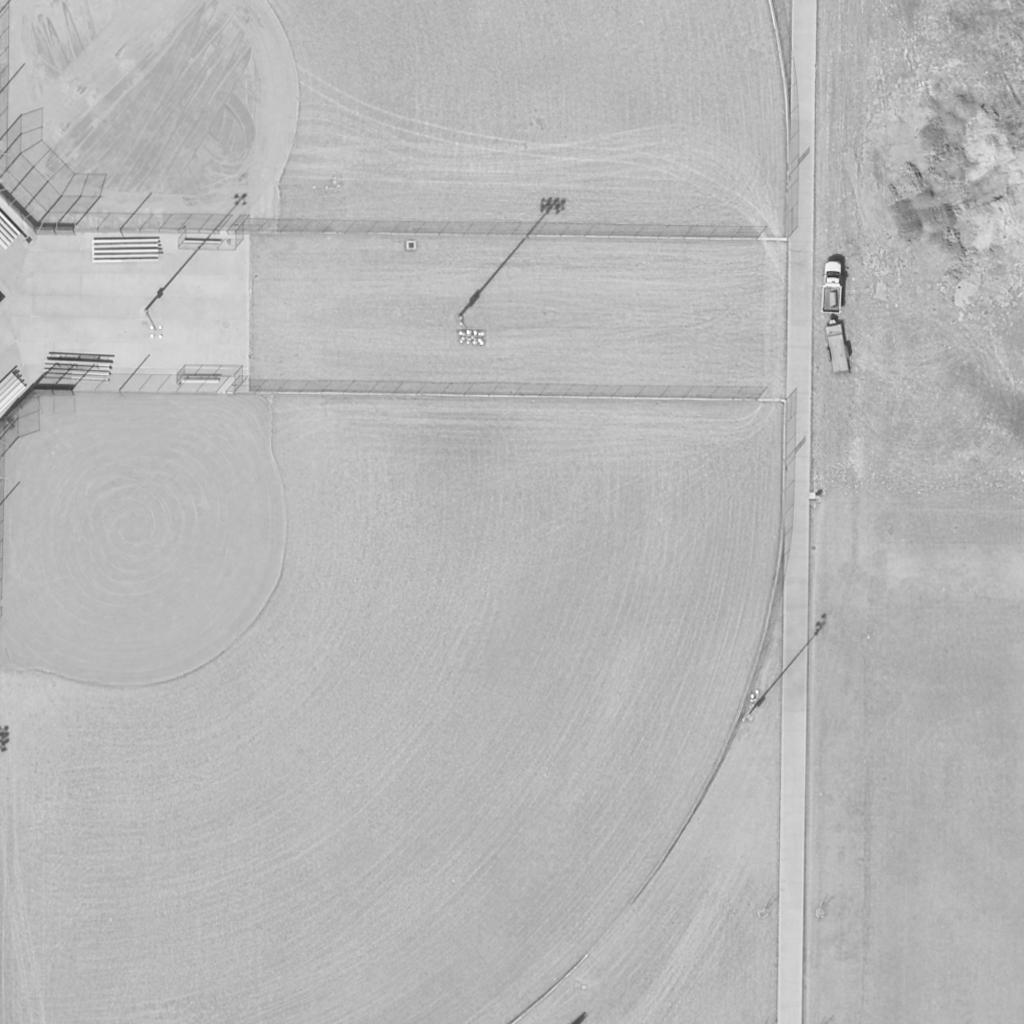vehicle: (820, 261, 844, 315)
